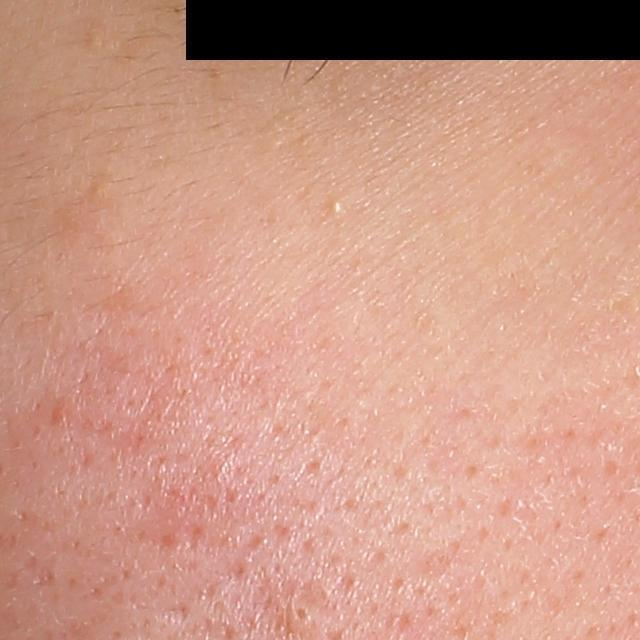comedo: (325, 196, 345, 215)
